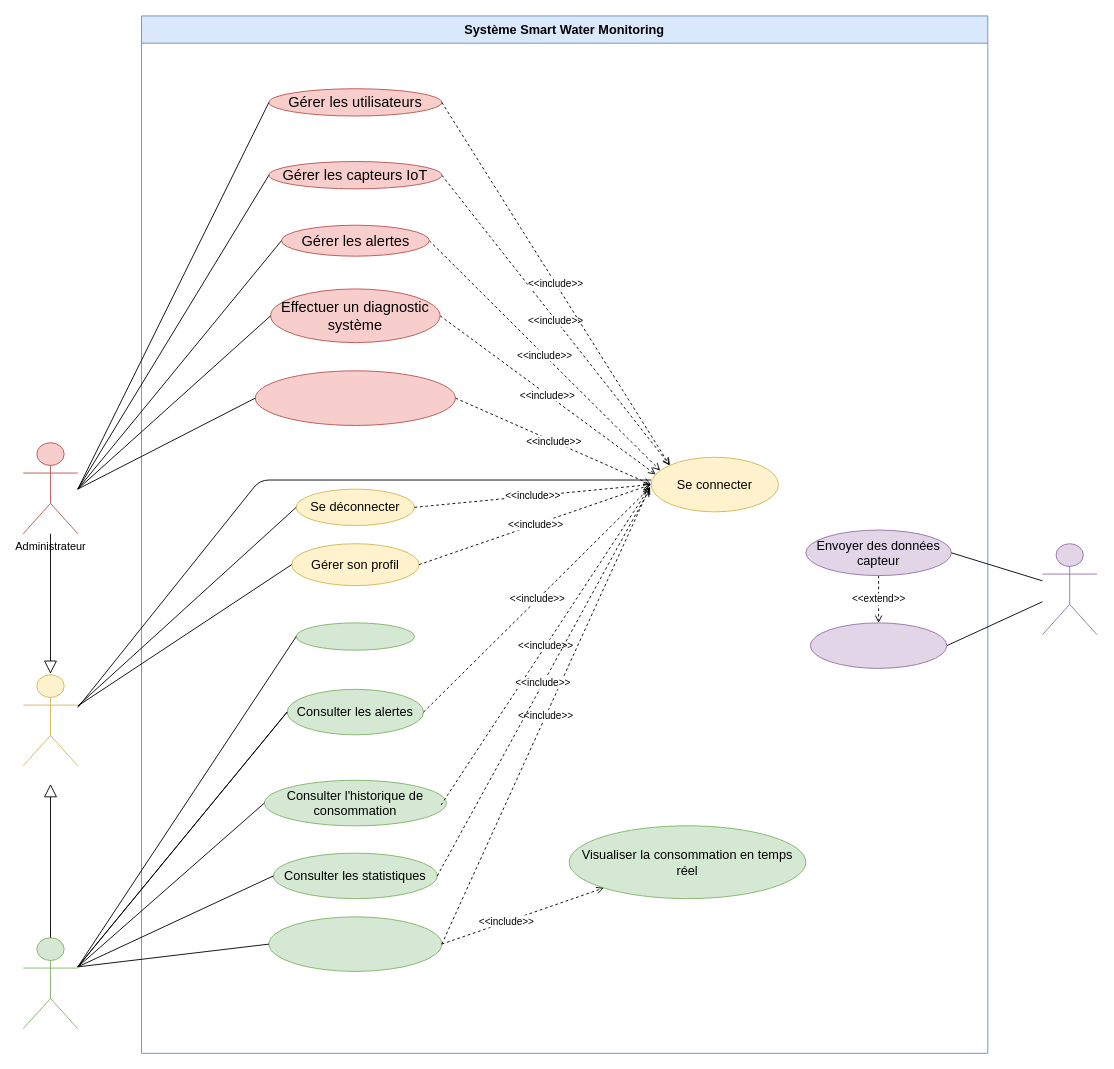
This 1114x1069 diagram has some shape labels left out. Here are the shapes that lost their labels. From the top down, the centre of each, then its label:
At (x=354, y=397): "Consulter l'agrégation des données".
At (x=1069, y=589): "Capteur IoT".
At (x=355, y=636): "S'inscrire".
At (x=878, y=645): "Déclencher des alertes automatiques".
At (x=50, y=720): "Utilisateur".
At (x=355, y=943): "Consulter le tableau de bord".
At (x=50, y=983): "Citoyen".
